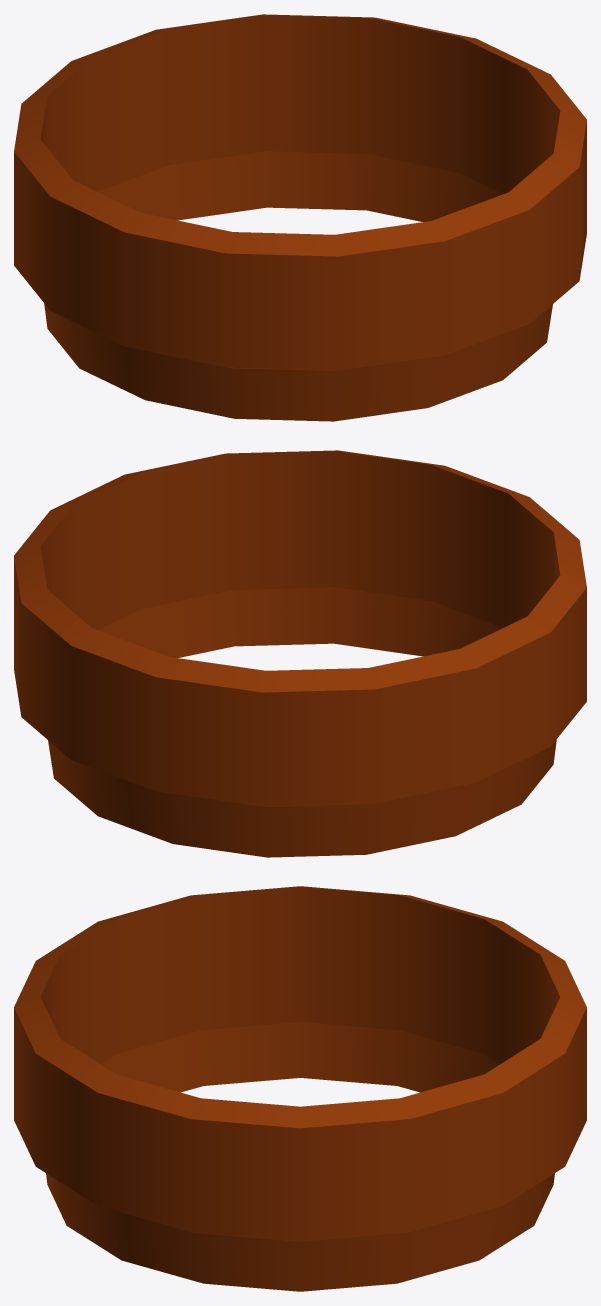
File: vaso.fbx
The picture shows the model from 3 angles, top to bottom: view 1: azimuth 30°, elevation 25°; view 2: azimuth 150°, elevation 25°; view 3: azimuth 270°, elevation 25°; orthographic projection.
Parts seen in each view (by area): view 1: Circle; view 2: Circle; view 3: Circle.
Boxes of the visible parts, box(x1,y1,x2,y2) form: Circle: box(14, 14, 586, 421); Circle: box(14, 450, 586, 857); Circle: box(14, 886, 586, 1291).
Bounding box in the file's own units: 220 × 79.82 × 220.
